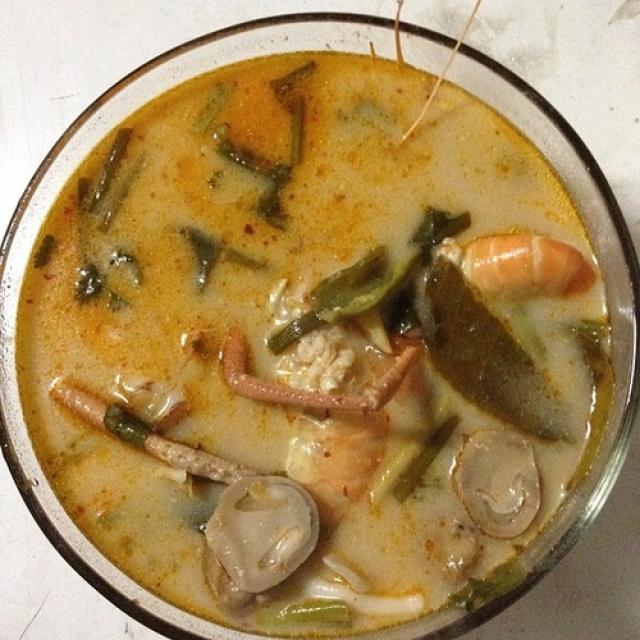汤锅炖物: (12, 23, 616, 616)
